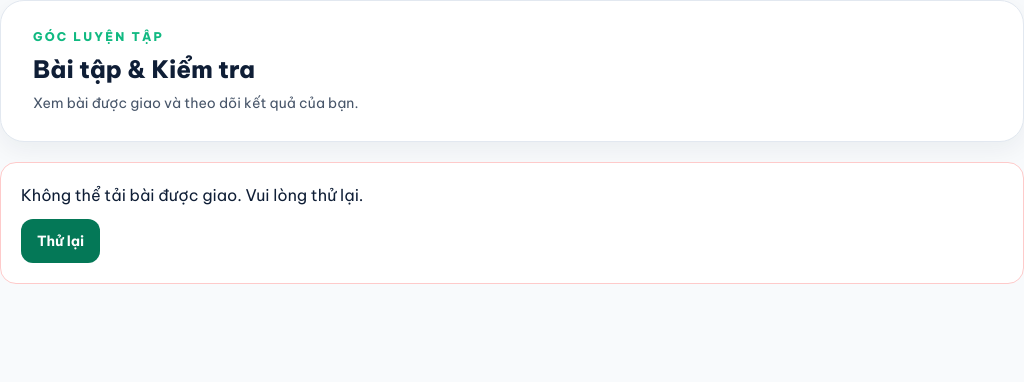
Scenario: Student Assessment API integration › distinguishes an API failure from an empty list and supports retry
Click the button "Thử lại" at (61, 241), box [21,219,100,263]
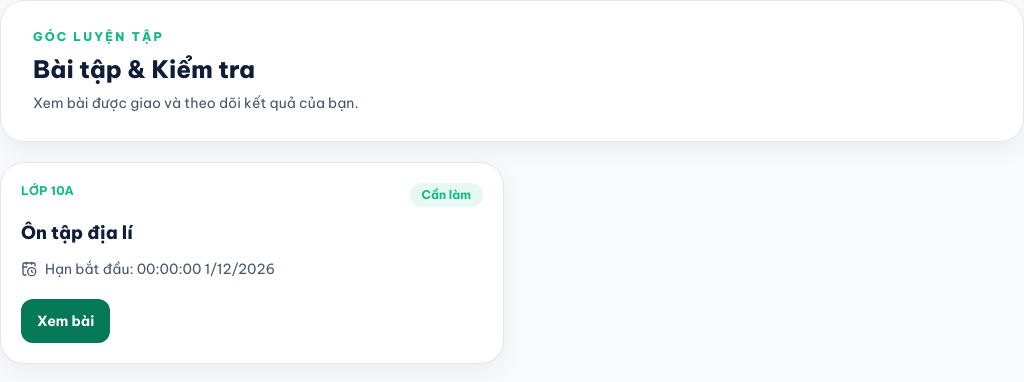
Expected: the text "Ôn tập địa lí" is shown, [21,221,133,244]
